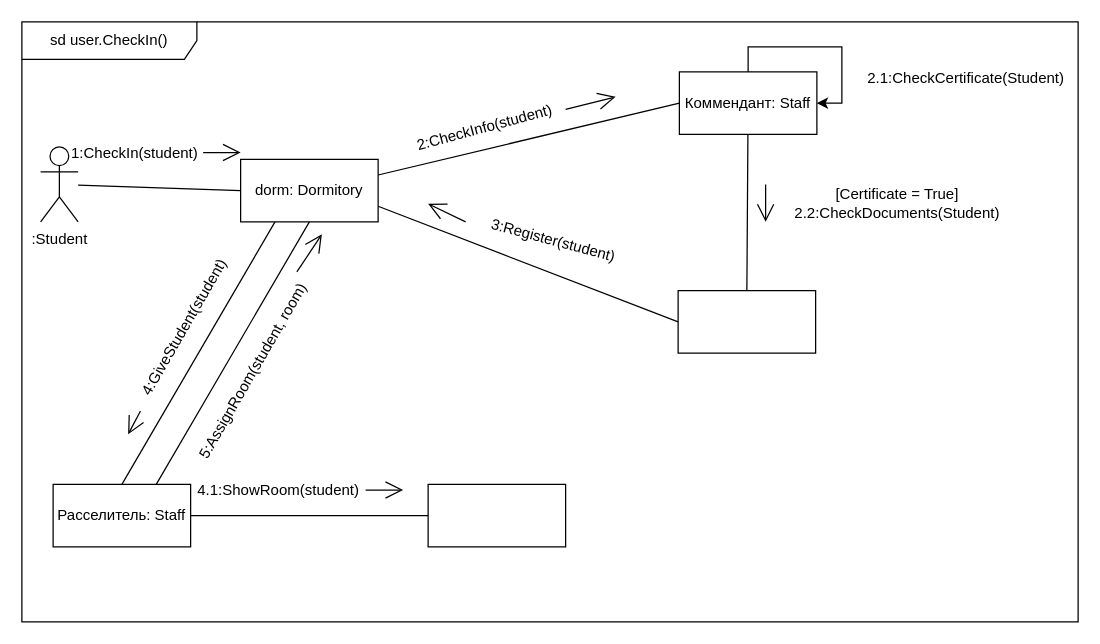
Image size: 1100x644. Some labels were removed from this diagram. Each missing label, with the centre of its shape:
room: Room: (x=496, y=515)
Паспортист: Staff: (x=746, y=321)
